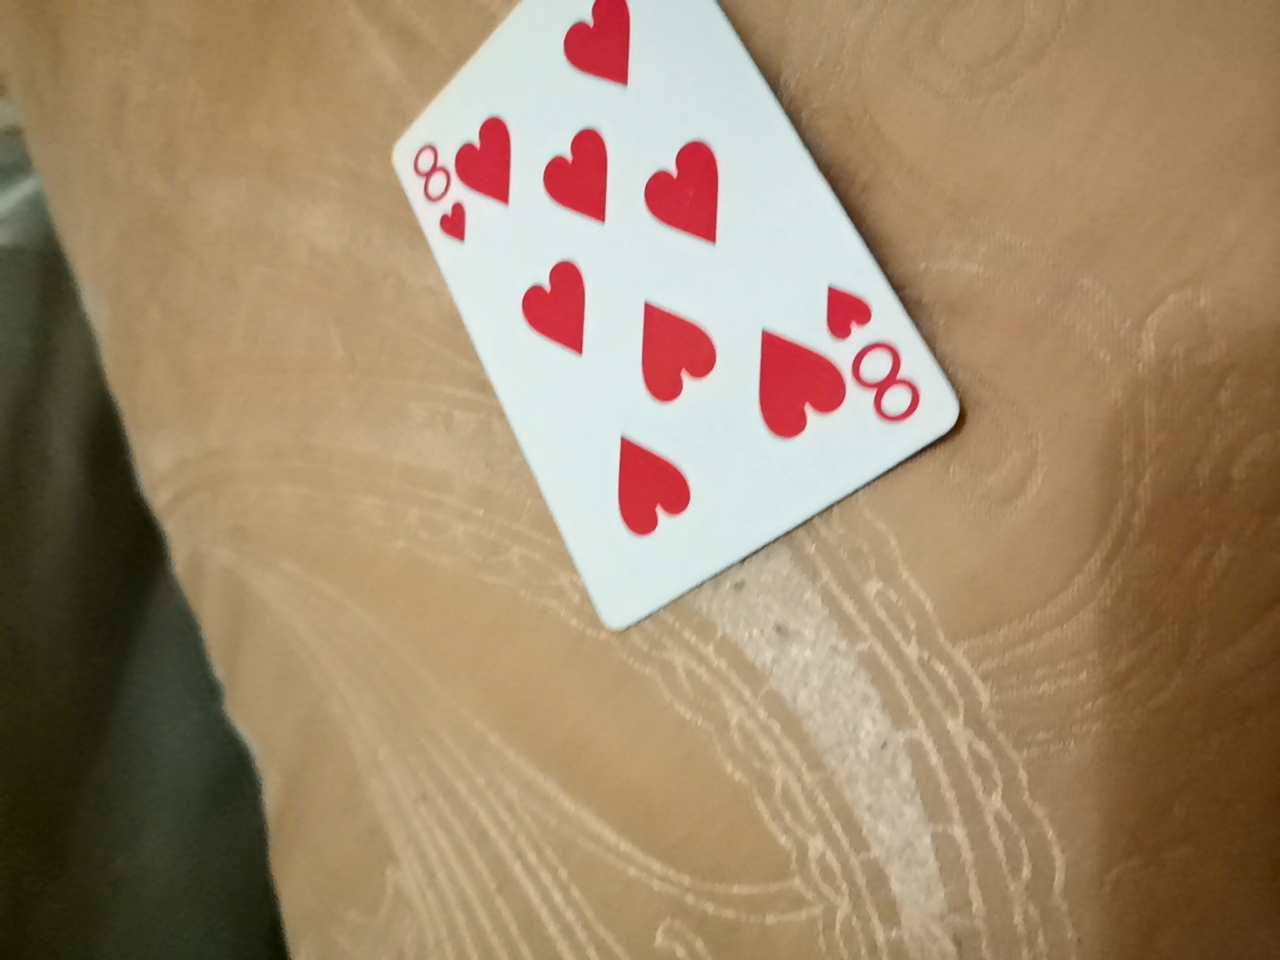hx 8: (358, 0, 938, 669)
